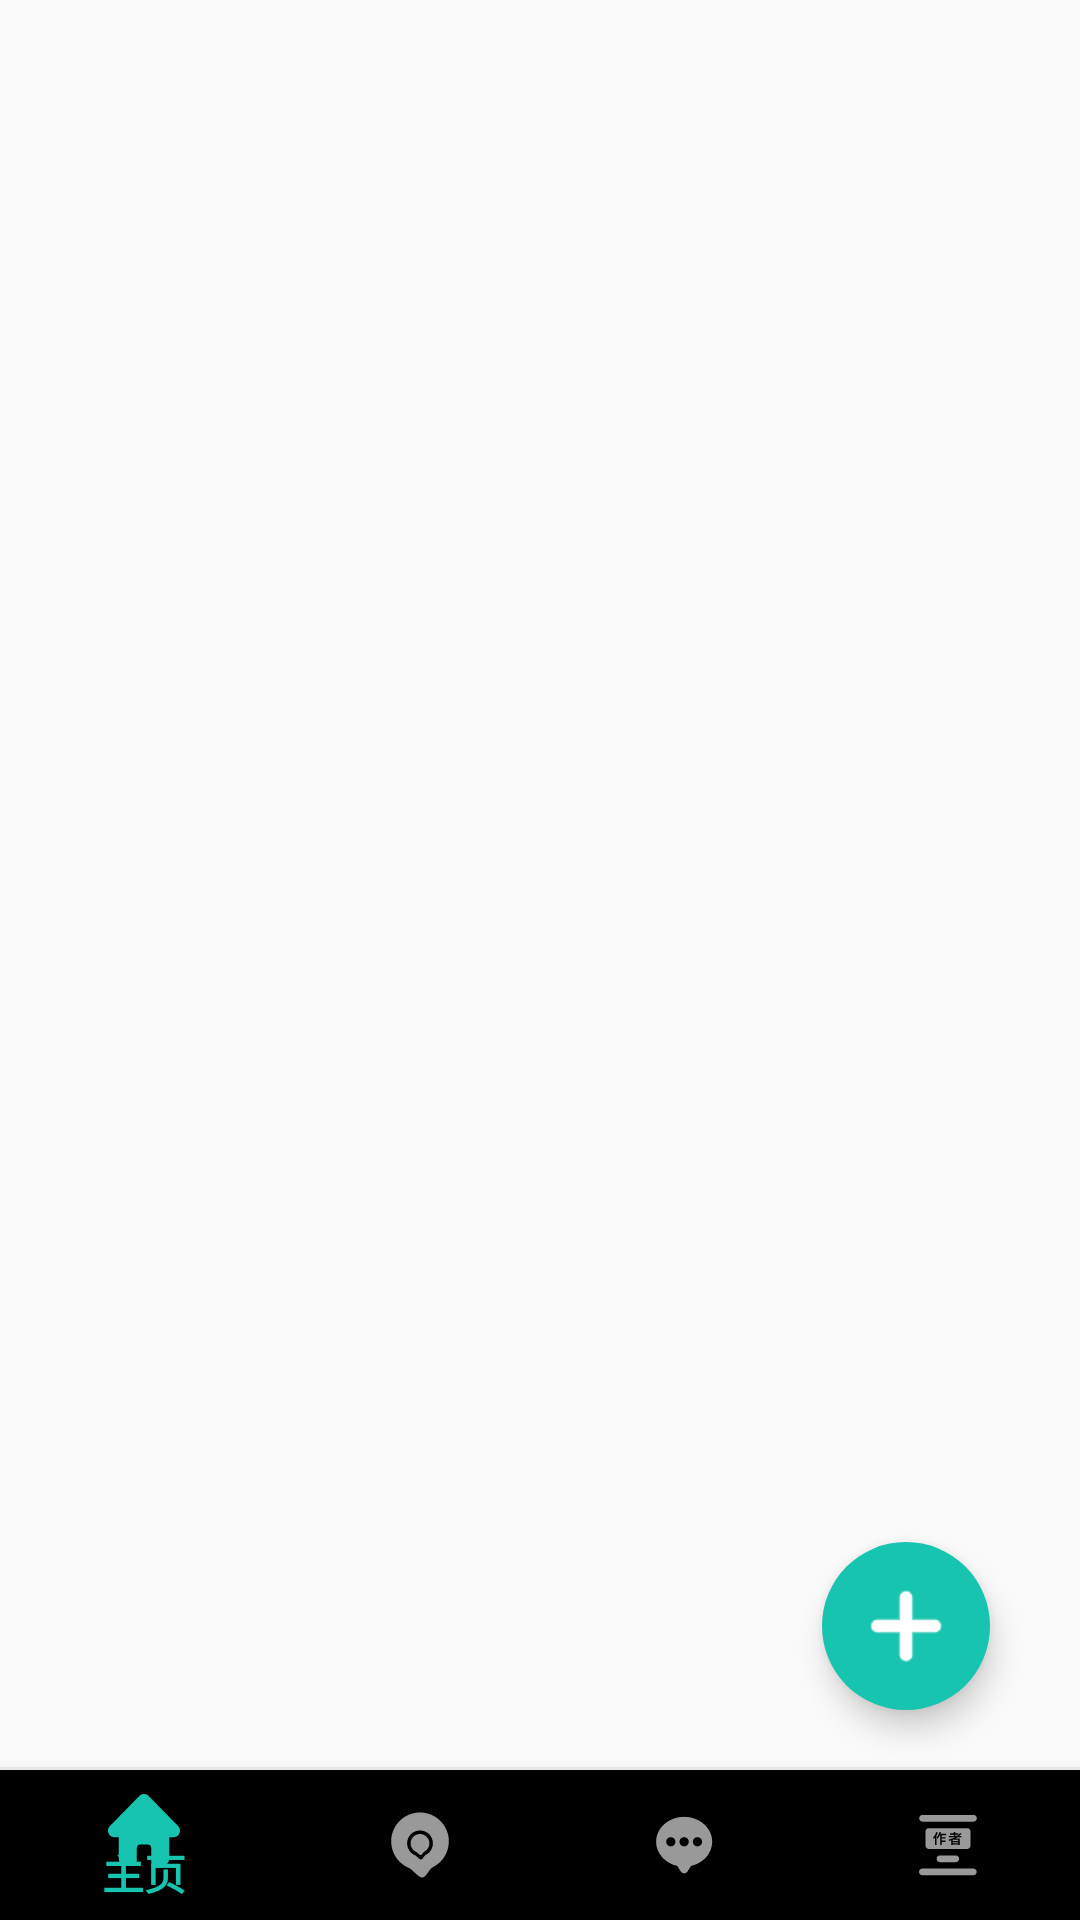

Icon bounding boxes for this 1080px×1920px phone screenshot, format (x1, y1, x2, y2):
add: (822, 1542, 990, 1710)
